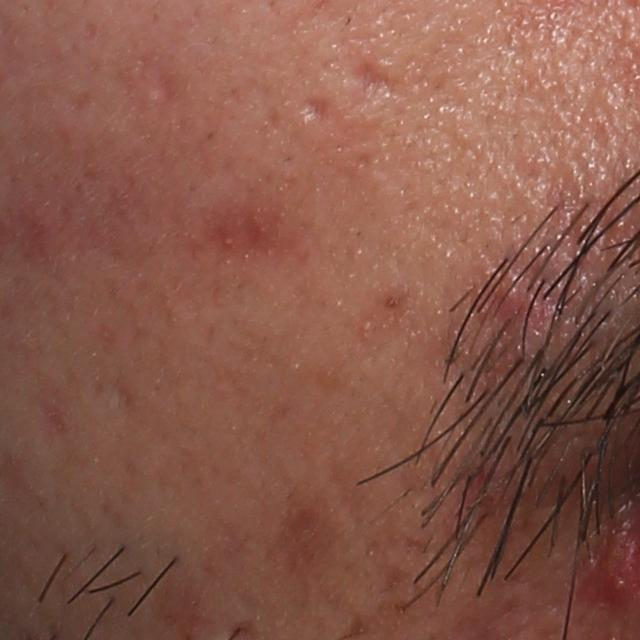atrophic_scar: (340, 53, 398, 105), (298, 93, 338, 128), (152, 72, 179, 103)
